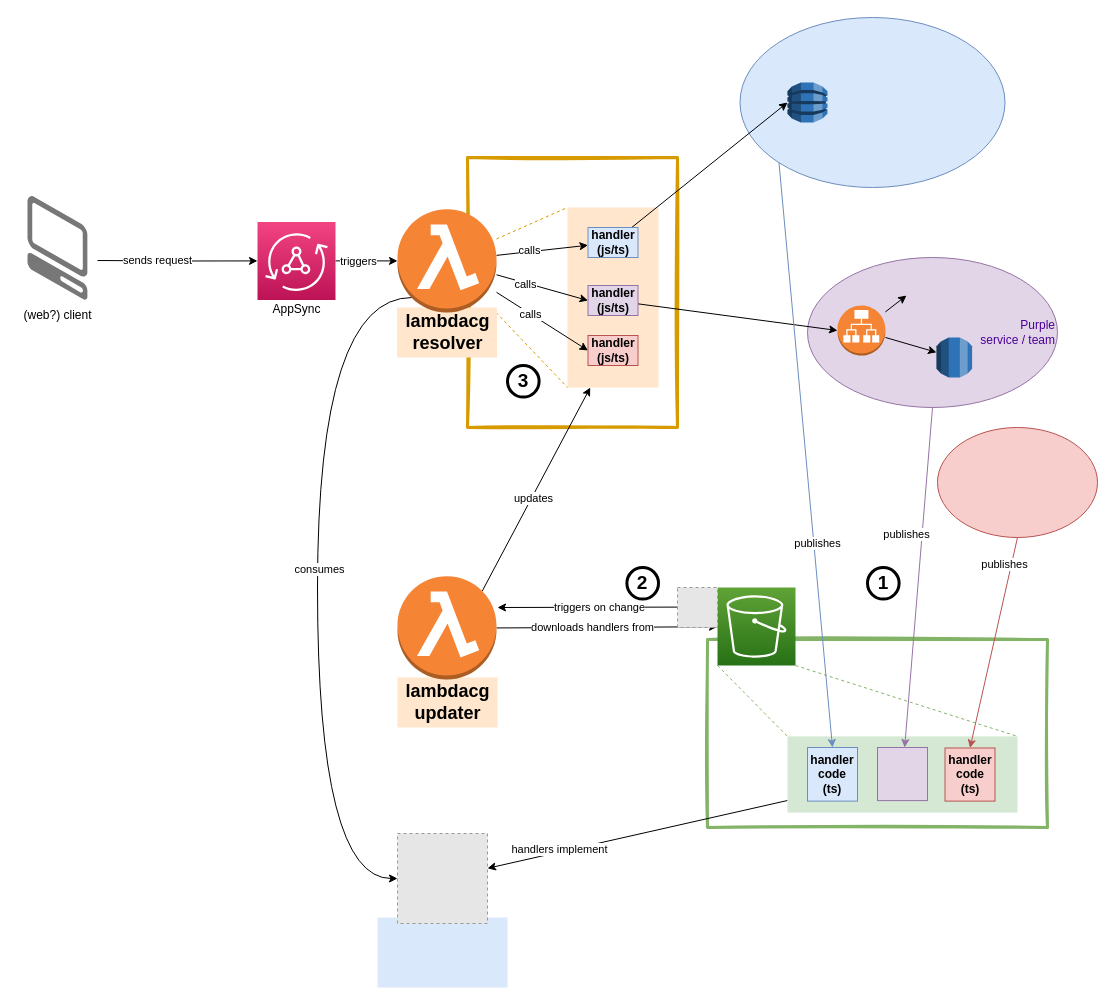
Some shapes in this 1115 by 1005 pixel diagram are drawn without their labels. Grey dashed boxes stand in for pictures. The box of each missing label's shape, as (x1, y1, x2, y2) in pixels:
Blue service / team: (739, 16, 1005, 188)
handler code (js): (876, 746, 928, 801)
lambdacg contract: (377, 917, 507, 987)
Red service / team: (936, 426, 1098, 538)
